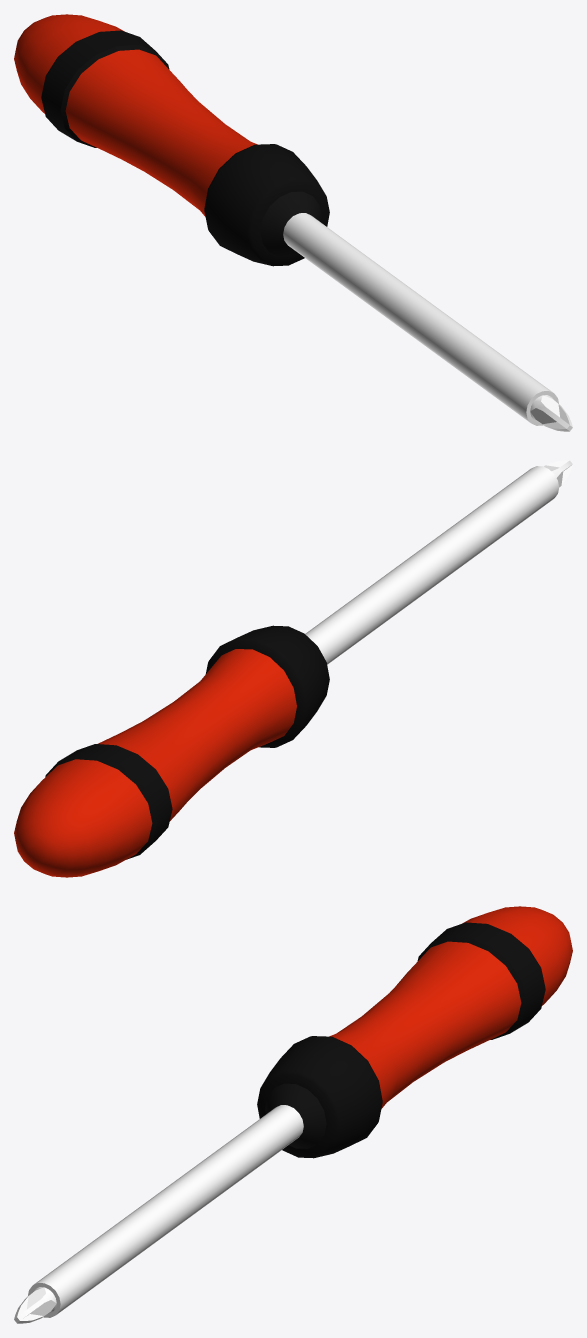
The model's file is SM_Screwdriver.fbx.
3 renders of one model, top to bottom at view 1: azimuth 30°, elevation 25°; view 2: azimuth 150°, elevation 25°; view 3: azimuth 330°, elevation 25°, orthographic.
Parts seen in each view (by area): view 1: ScrewDriver; view 2: ScrewDriver; view 3: ScrewDriver.
Part boxes in pixels (x1=…): ScrewDriver: x1=14, y1=14, x2=572, y2=431; ScrewDriver: x1=14, y1=460, x2=572, y2=877; ScrewDriver: x1=14, y1=906, x2=572, y2=1323.
Bounding box in the file's own units: 3.79 × 3.37 × 30.16.
